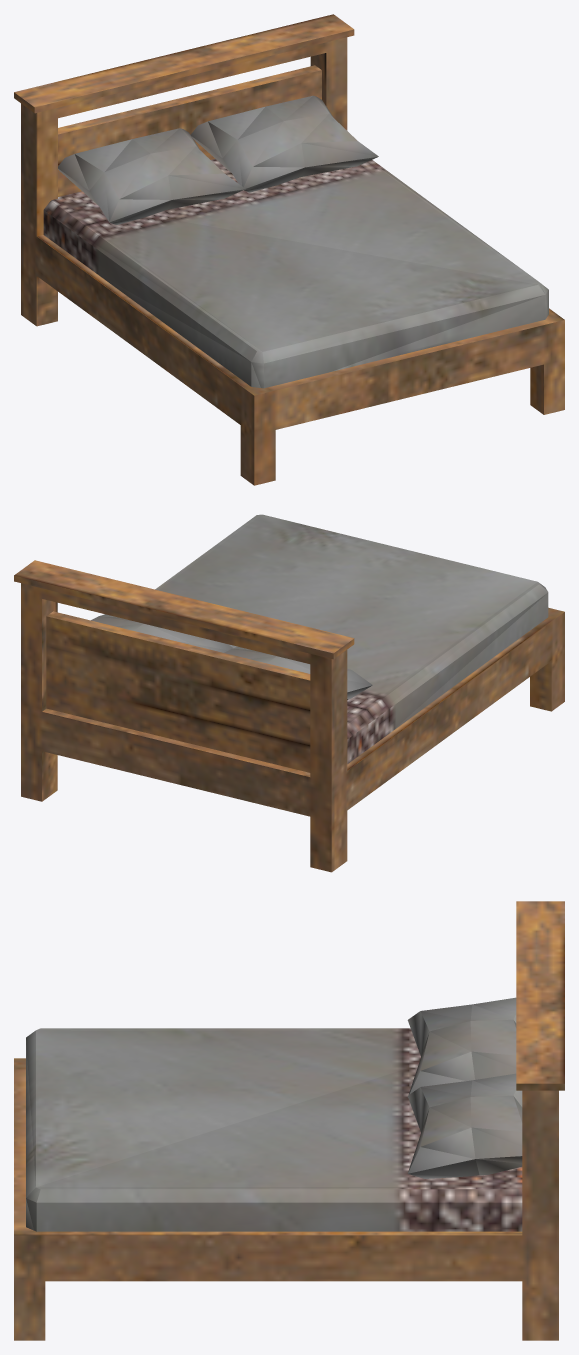
File: cama_b.glb
3 renders of one model, top to bottom at view 1: azimuth 30°, elevation 25°; view 2: azimuth 150°, elevation 25°; view 3: azimuth 270°, elevation 25°, orthographic. The views are drawn at different scales.
Parts seen in each view (by area): view 1: cama_b; view 2: cama_b; view 3: cama_b.
Boxes of the visible parts, x1,y1,x2,y2 form: cama_b: (14, 14, 564, 485); cama_b: (14, 514, 564, 872); cama_b: (14, 901, 564, 1340).
Bounding box in the file's own units: 2.03 × 1.34 × 2.59.
Materials: 1 (1 with a texture image).
